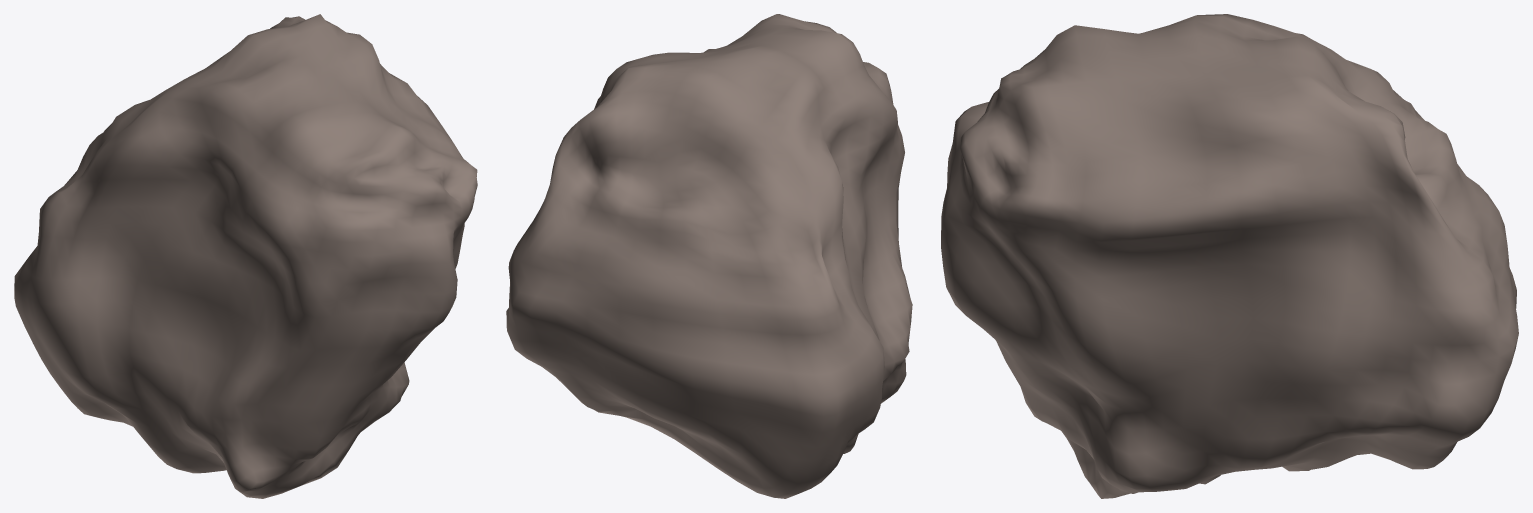
The model's file is Asteroide_2.fbx.
3 renders of one model, left to right at view 1: azimuth 30°, elevation 25°; view 2: azimuth 150°, elevation 25°; view 3: azimuth 270°, elevation 25°, orthographic. The views are drawn at different scales.
Parts seen in each view (by area): view 1: Cube.001; view 2: Cube.001; view 3: Cube.001.
Boxes of the visible parts, x1=… form: Cube.001: x1=14, y1=14, x2=477, y2=498; Cube.001: x1=506, y1=14, x2=912, y2=498; Cube.001: x1=941, y1=14, x2=1518, y2=498.
Size of the model in its own units: 1177 by 1285 by 1412.
